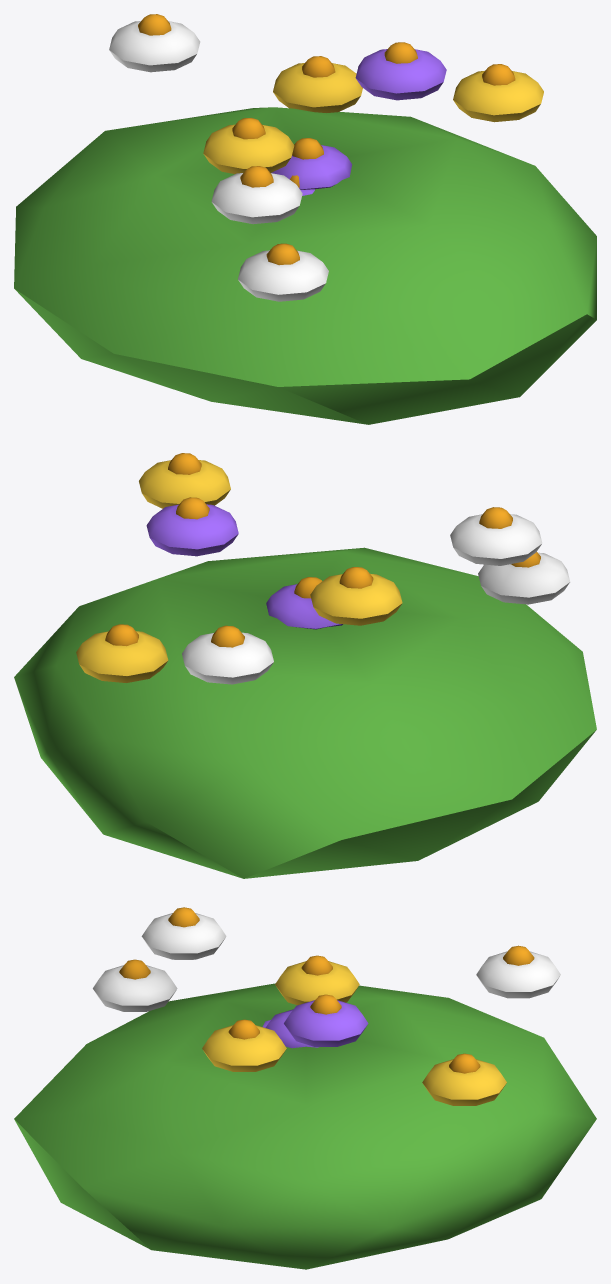
File: vl_flowers.glb
3 renders of one model, top to bottom at view 1: azimuth 30°, elevation 25°; view 2: azimuth 150°, elevation 25°; view 3: azimuth 270°, elevation 25°, orthographic. The views are drawn at different scales.
Visible parts, largest first — view 1: flowers; view 2: flowers; view 3: flowers.
Boxes of the visible parts, x1=… form: flowers: x1=14, y1=14, x2=596, y2=424; flowers: x1=14, y1=453, x2=596, y2=878; flowers: x1=14, y1=907, x2=596, y2=1269.
Size of the model in its own units: 1.1 by 0.6127 by 1.24.
